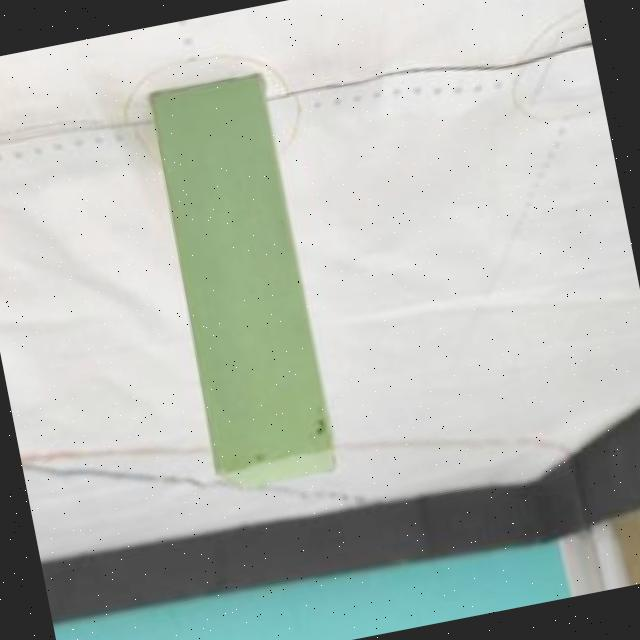greenbox: (145, 72, 338, 494)
